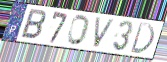3: (109, 20, 136, 53)
7: (48, 10, 69, 45)
B: (19, 7, 47, 41)
D: (128, 21, 155, 56)
O: (66, 14, 92, 47)
V: (92, 16, 117, 50)
